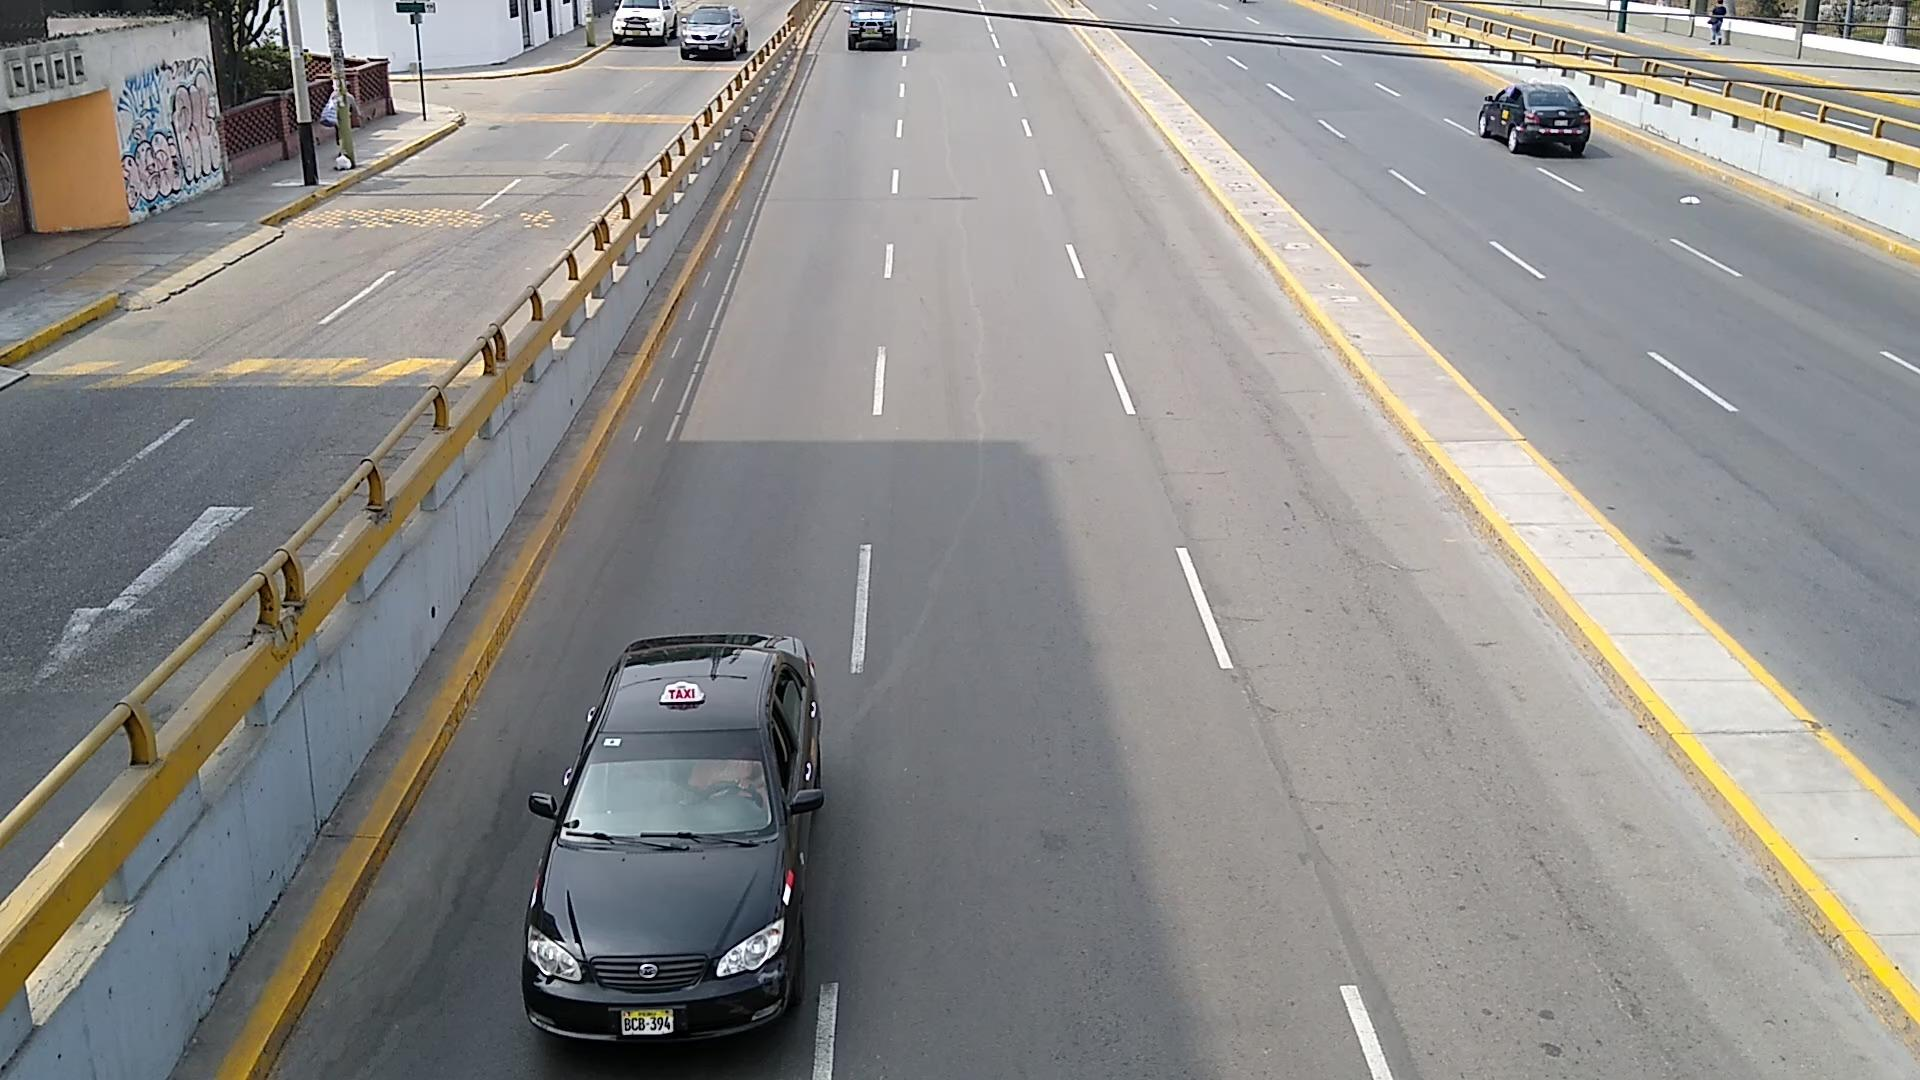car: (521, 634, 825, 1043), (1477, 83, 1590, 154), (679, 4, 750, 61), (612, 0, 679, 45), (848, 4, 899, 49)
